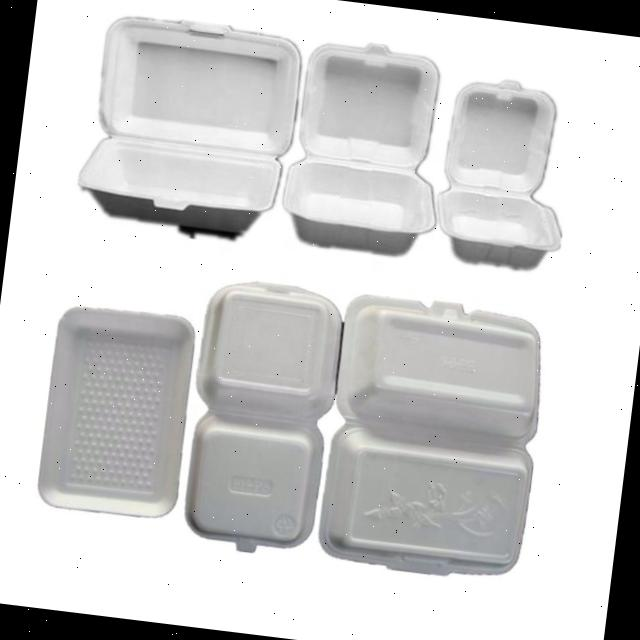styrofoam: (72, 8, 305, 244), (277, 32, 456, 260), (33, 298, 199, 522), (429, 70, 580, 272)
